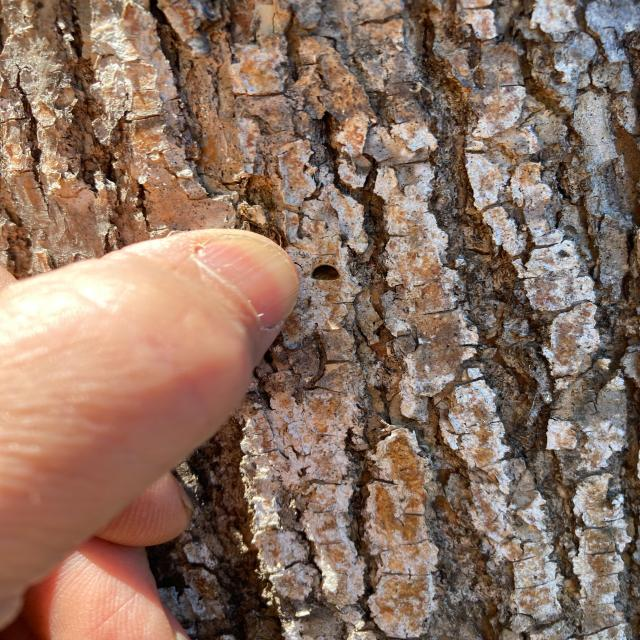Fraxinus latifolia: (4, 2, 640, 640)
